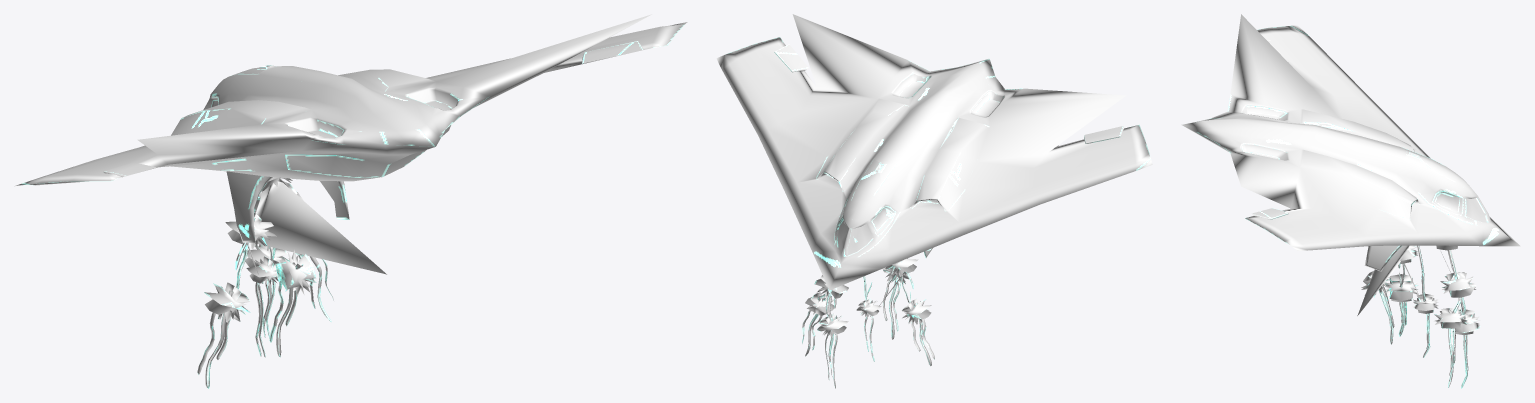
The model's file is bombardier_v3.glb.
3 renders of one model, left to right at view 1: azimuth 30°, elevation 25°; view 2: azimuth 150°, elevation 25°; view 3: azimuth 270°, elevation 25°, orthographic. The views are drawn at different scales.
Parts seen in each view (by area): view 1: bombardier_v3; view 2: bombardier_v3; view 3: bombardier_v3.
Boxes of the visible parts, x1=… form: bombardier_v3: x1=14, y1=14, x2=687, y2=388; bombardier_v3: x1=716, y1=14, x2=1152, y2=388; bombardier_v3: x1=1181, y1=14, x2=1520, y2=388.
Bounding box in the file's own units: 2.6 × 1.5 × 1.65.
1 material, 1 textured.
